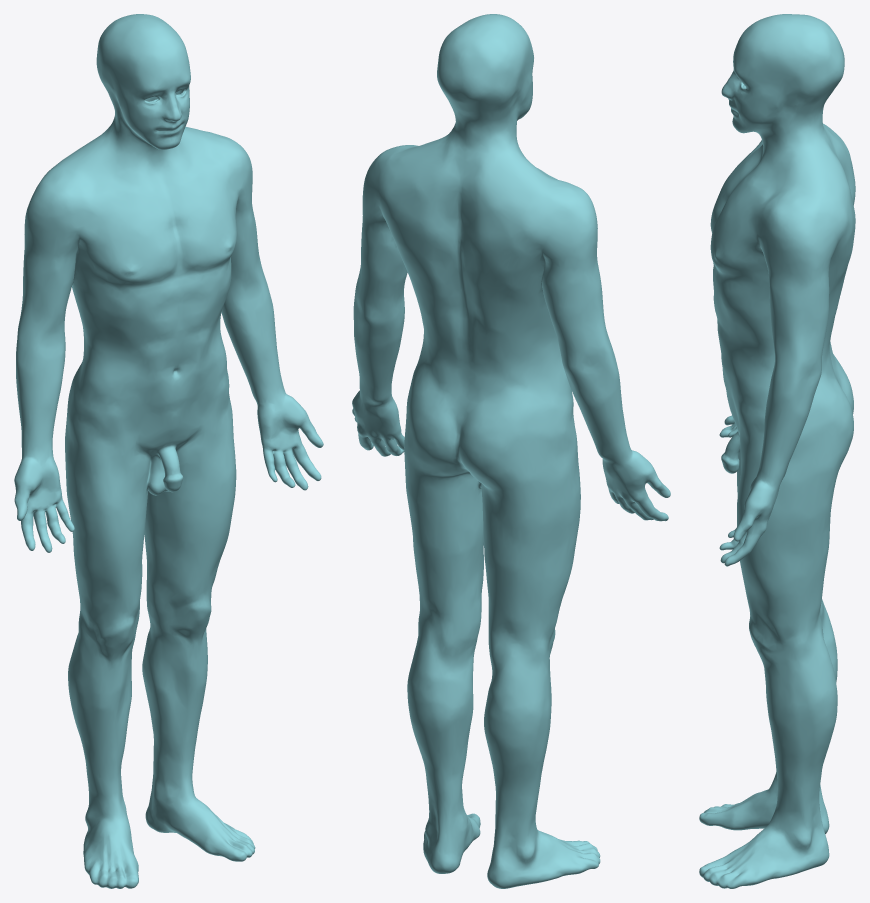
The model's file is male-classified-body-envelope.glb.
The picture shows the model from 3 angles, left to right: view 1: azimuth 30°, elevation 25°; view 2: azimuth 150°, elevation 25°; view 3: azimuth 270°, elevation 25°; orthographic projection. The views are drawn at different scales.
Visible parts, largest first — view 1: FMA7163; view 2: FMA7163; view 3: FMA7163.
Boxes of the visible parts, x1,y1,x2,y2 form: FMA7163: (14, 14, 323, 888); FMA7163: (352, 14, 670, 888); FMA7163: (699, 14, 855, 888).
Bounding box in the file's own units: 0.6669 × 1.72 × 0.292.
